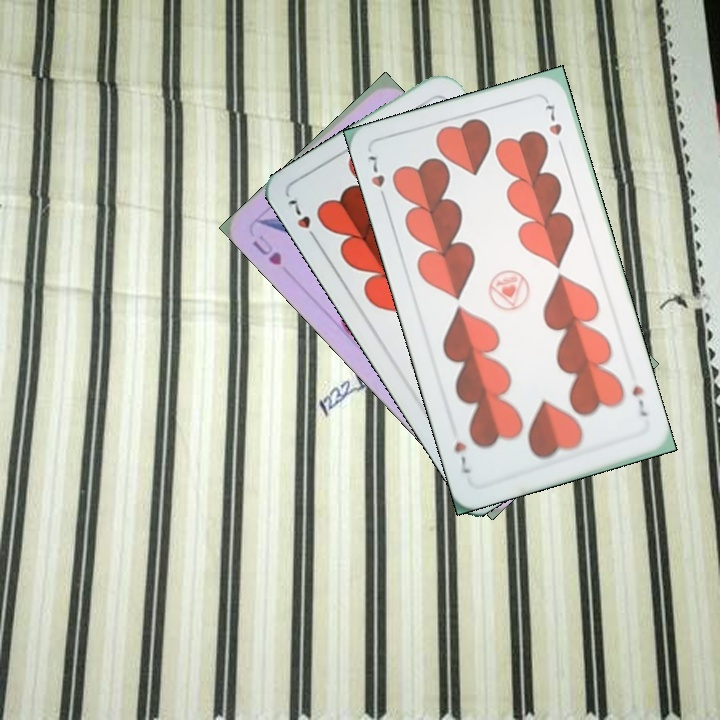H7: (284, 195, 322, 246), (363, 151, 390, 206), (628, 382, 650, 419)
HU: (248, 235, 285, 268)
